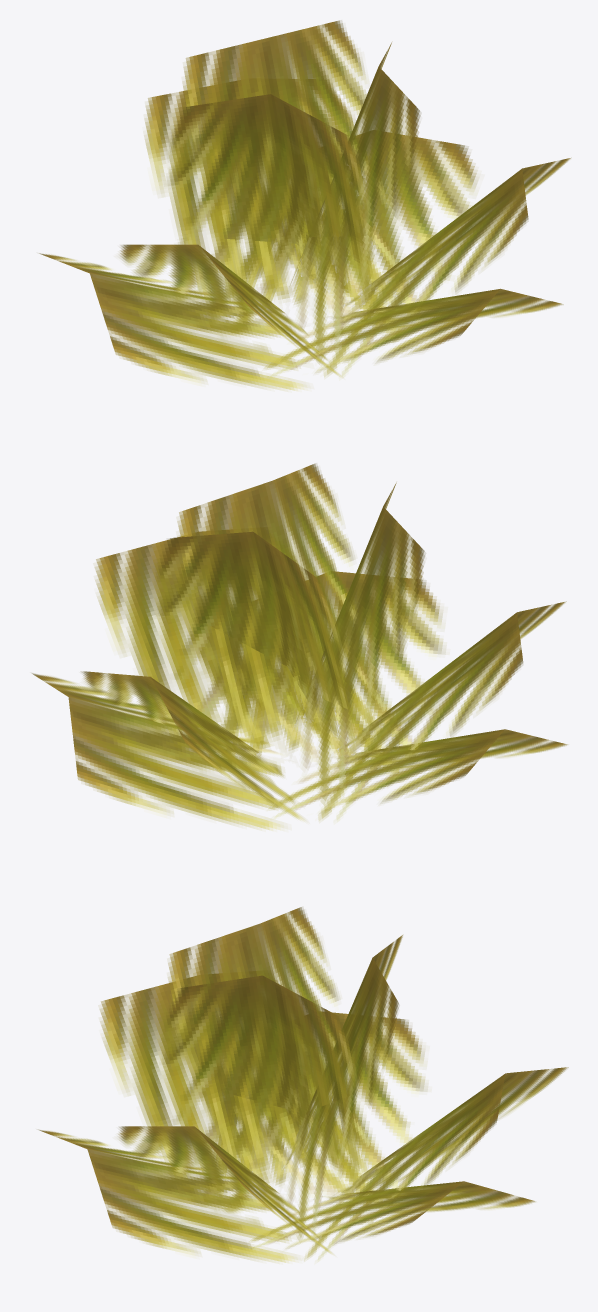
3 renders of one model, top to bottom at view 1: azimuth 30°, elevation 25°; view 2: azimuth 150°, elevation 25°; view 3: azimuth 270°, elevation 25°, orthographic. The views are drawn at different scales.
Parts seen in each view (by area): view 1: grass; view 2: grass; view 3: grass.
Boxes of the visible parts, x1,y1,x2,y2 form: grass: [39, 20, 570, 390]; grass: [32, 463, 567, 830]; grass: [38, 907, 568, 1262].
Size of the model in its own units: 129 by 79.15 by 135.
1 material, 1 textured.
